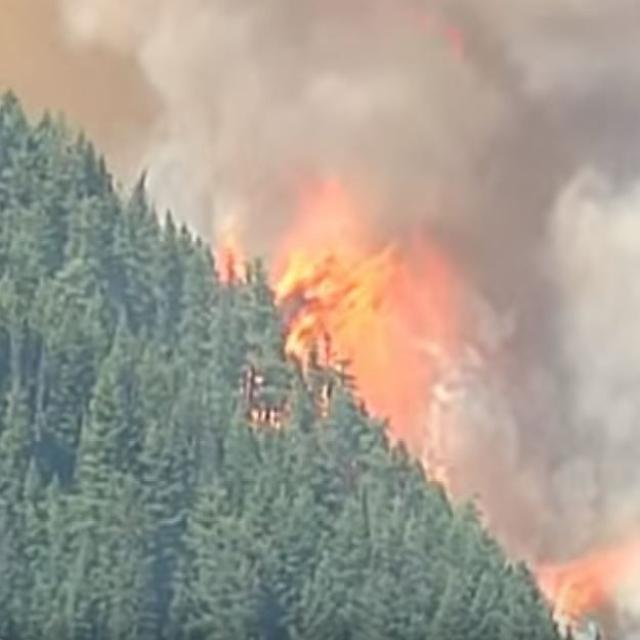Fire: (222, 197, 418, 461)
Smoke: (171, 9, 623, 581)
